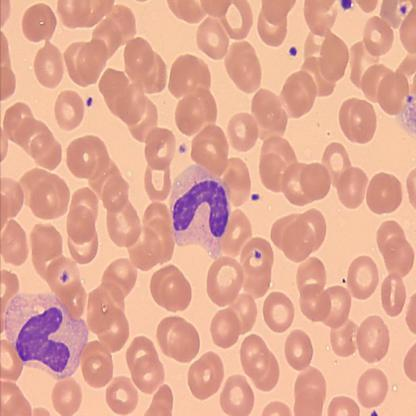Band Neutrophil: (0, 288, 90, 381), (166, 162, 234, 262)
